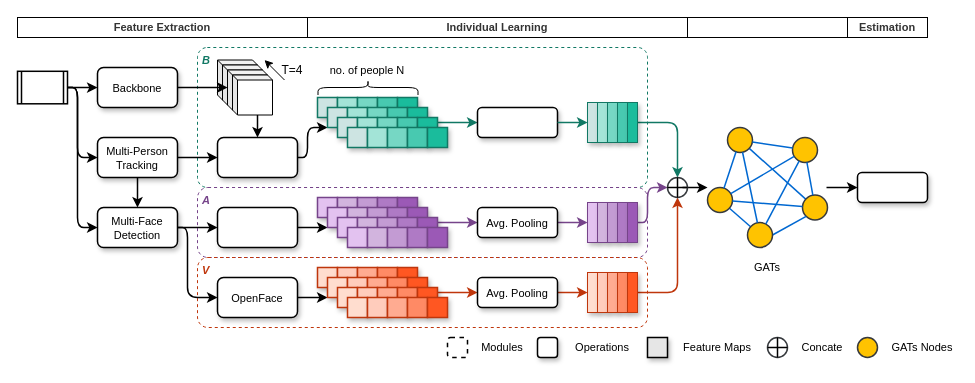
This 975x383 diagram has some shape labels left out. The shapes that lost their labels are listed below. From the top down, each one's centre as x and y in pixels, then its label:
At point 767,27: "Group Learning".
At point 42,87: "Video".
At point 518,123: "Self-attention".
At point 258,158: "Body Align".
At point 893,188: "Estimator".
At point 258,228: "Expression Analysis".
